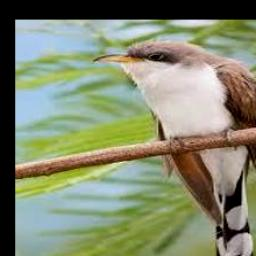Cuckoo: (93, 39, 256, 256)
